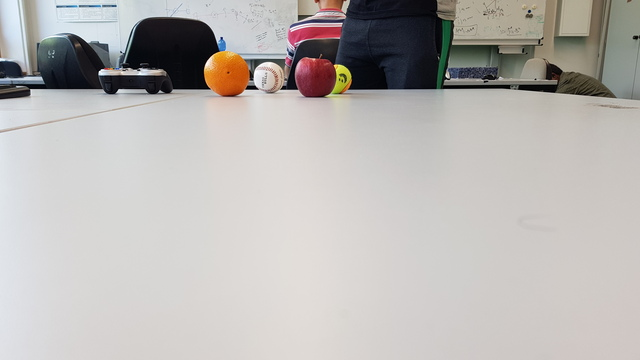013_apple: (294, 54, 336, 98)
017_orange: (203, 51, 251, 98)
055_baseball: (253, 60, 285, 94)
056_tennis_ball: (331, 63, 353, 94)
